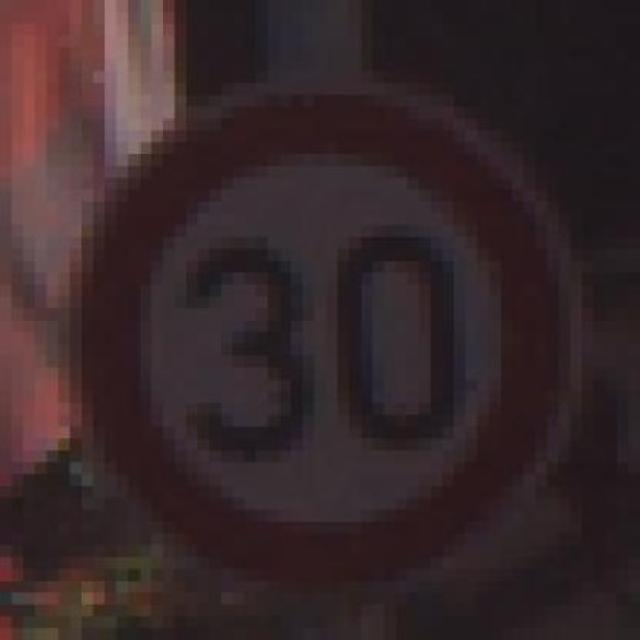Speed Limit 30 KMPh: (35, 70, 582, 582)
